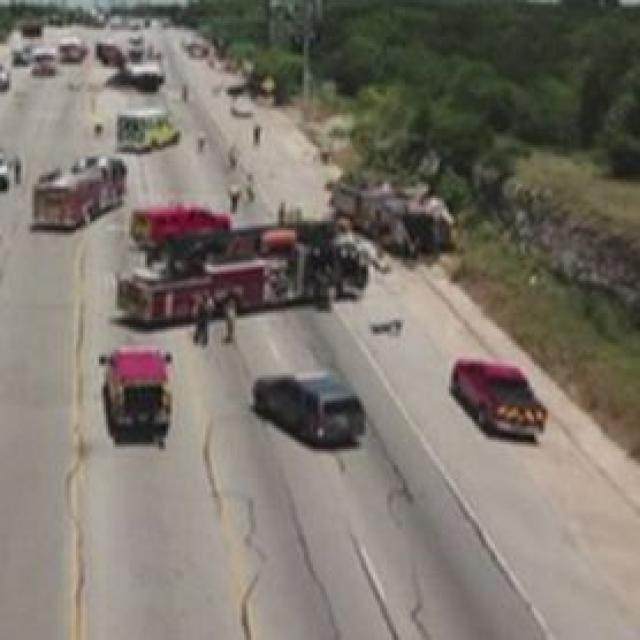traffic_incident: (325, 161, 467, 260)
